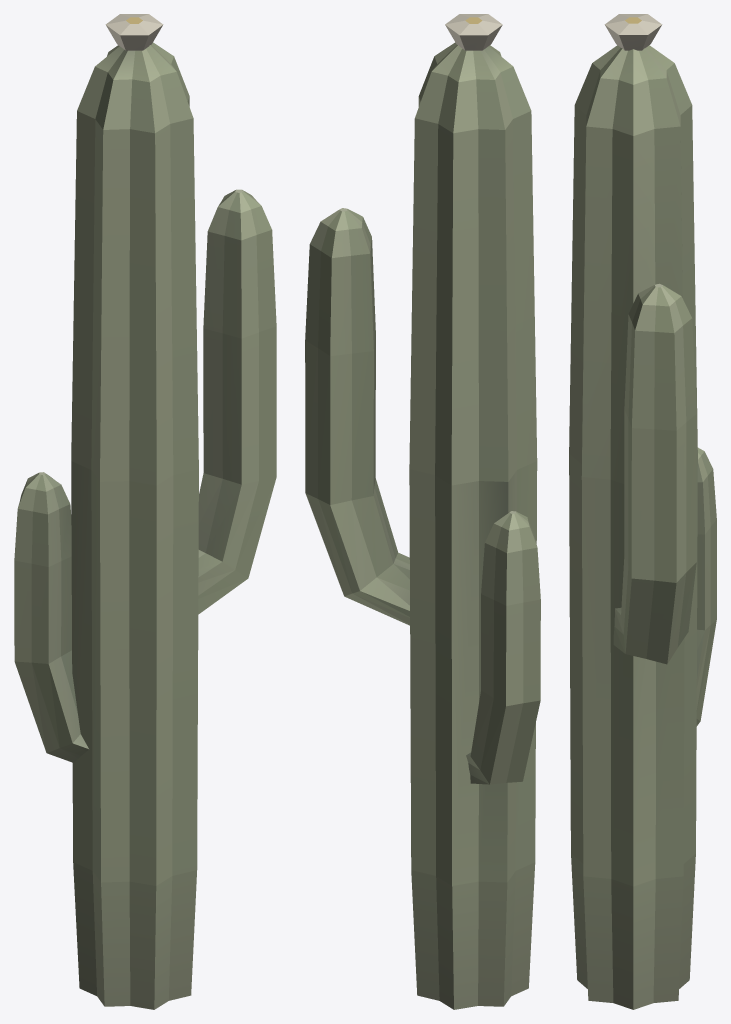
Rendered from cactus.glb.
3 views of the same model, side by side, from view 1: azimuth 30°, elevation 25°; view 2: azimuth 150°, elevation 25°; view 3: azimuth 270°, elevation 25° (orthographic).
Size of the model in its own units: 0.8639 by 3.32 by 0.461.
